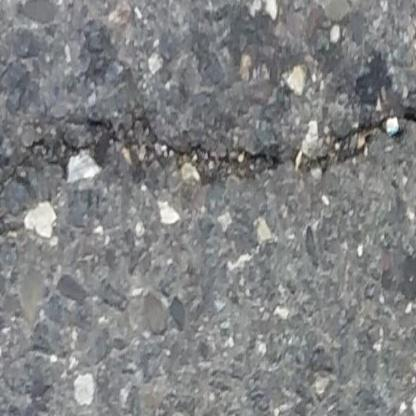Cracks: (0, 100, 416, 228)
